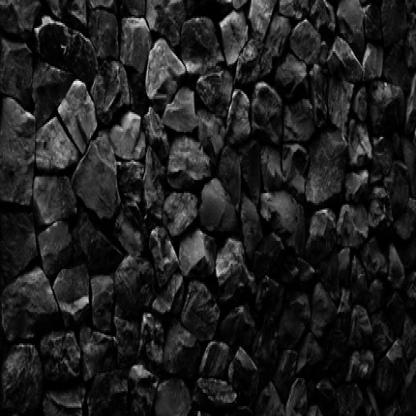Sedimentary_coal: (36, 76, 94, 182), (158, 130, 209, 195), (73, 135, 116, 210), (143, 35, 186, 107), (49, 259, 98, 322), (7, 271, 58, 330), (216, 15, 245, 71)
